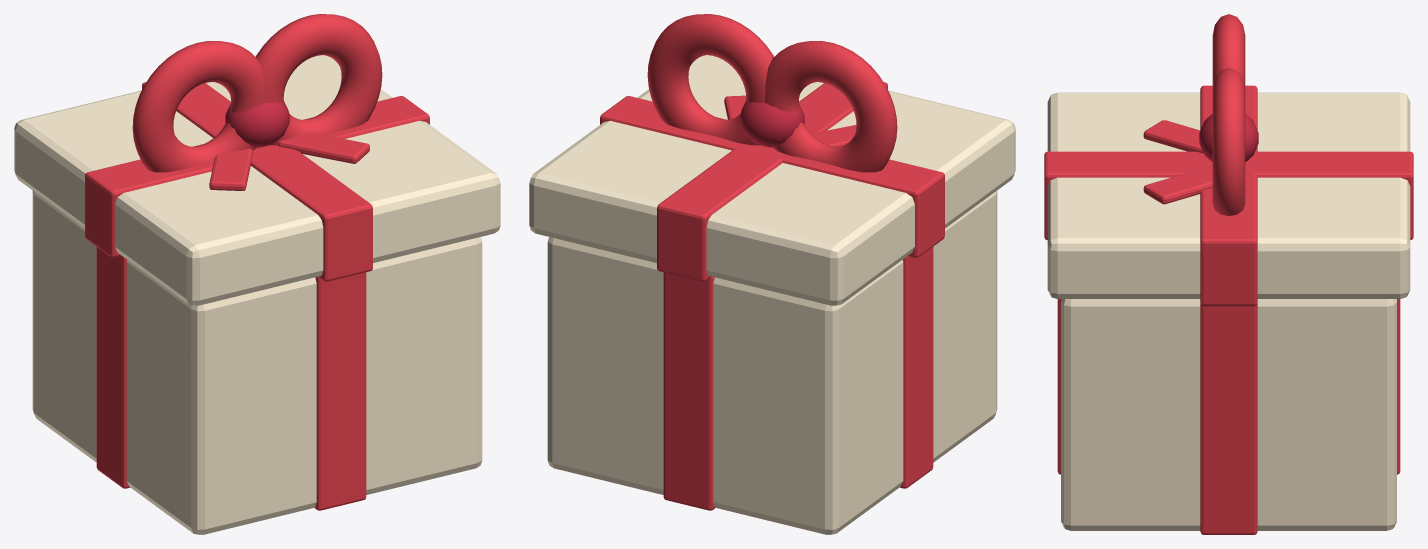
Rendered from gift_crate.glb.
3 views of the same model, side by side, from view 1: azimuth 30°, elevation 25°; view 2: azimuth 150°, elevation 25°; view 3: azimuth 270°, elevation 25° (orthographic).
Parts seen in each view (by area): view 1: Body, Lid, Body ribbon 0, Bow loop -1, Lid ribbon 0, Bow loop 1, Body ribbon 1, Lid ribbon 1, Bow knot, Bow tail 1, Bow tail -1; view 2: Body, Lid, Body ribbon 0, Bow loop -1, Bow loop 1, Lid ribbon 0, Body ribbon 1, Lid ribbon 1, Bow knot, Bow tail -1; view 3: Body, Lid, Body ribbon 1, Lid ribbon 0, Lid ribbon 1, Bow loop 1, Bow loop -1, Bow tail 1, Body ribbon 0, Bow tail -1, Bow knot.
Boxes of the visible parts, left/top/right/bottom form: Body: left=32, top=191, right=482, bottom=534; Lid: left=14, top=55, right=500, bottom=305; Body ribbon 0: left=314, top=272, right=366, bottom=510; Bow loop -1: left=132, top=41, right=264, bottom=172; Lid ribbon 0: left=142, top=82, right=372, bottom=281; Bow loop 1: left=255, top=14, right=382, bottom=145; Body ribbon 1: left=96, top=247, right=129, bottom=488; Lid ribbon 1: left=85, top=96, right=429, bottom=257; Bow knot: left=225, top=101, right=289, bottom=147; Bow tail 1: left=278, top=132, right=369, bottom=163; Bow tail -1: left=209, top=148, right=252, bottom=190; Body: left=547, top=191, right=997, bottom=534; Lid: left=529, top=55, right=1015, bottom=305; Body ribbon 0: left=663, top=272, right=715, bottom=510; Bow loop -1: left=765, top=41, right=897, bottom=172; Bow loop 1: left=647, top=14, right=774, bottom=145; Lid ribbon 0: left=657, top=82, right=887, bottom=281; Body ribbon 1: left=900, top=247, right=933, bottom=488; Lid ribbon 1: left=600, top=96, right=944, bottom=257; Bow knot: left=740, top=101, right=804, bottom=147; Bow tail -1: left=812, top=125, right=856, bottom=146; Body: left=1061, top=299, right=1396, bottom=530; Lid: left=1047, top=92, right=1410, bottom=298; Body ribbon 1: left=1200, top=303, right=1257, bottom=534; Lid ribbon 0: left=1044, top=151, right=1413, bottom=239; Lid ribbon 1: left=1200, top=85, right=1257, bottom=306; Bow loop 1: left=1212, top=68, right=1245, bottom=215; Bow loop -1: left=1212, top=14, right=1245, bottom=88; Bow tail 1: left=1143, top=165, right=1212, bottom=204; Body ribbon 0: left=1057, top=299, right=1400, bottom=474; Bow tail -1: left=1143, top=120, right=1203, bottom=153; Bow knot: left=1199, top=114, right=1258, bottom=162.
Bounding box in the file's own units: 1.1 × 1.36 × 1.1.
